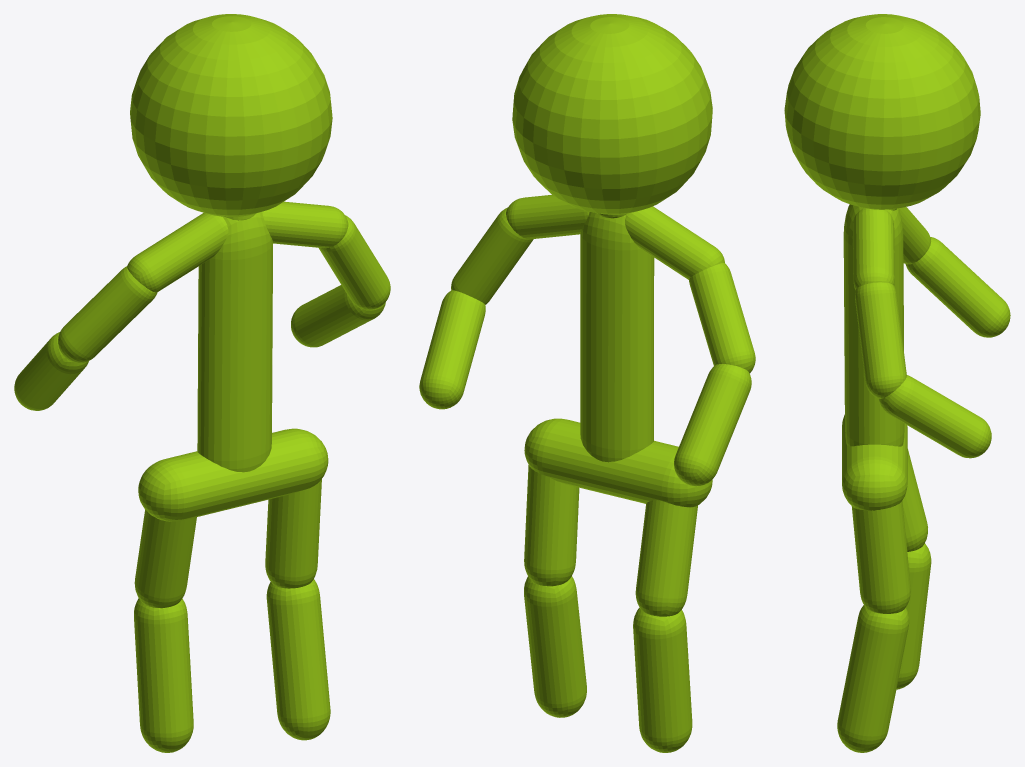
File: Stickman_000017.obj
3 renders of one model, left to right at view 1: azimuth 30°, elevation 25°; view 2: azimuth 150°, elevation 25°; view 3: azimuth 270°, elevation 25°, orthographic. The views are drawn at different scales.
Parts seen in each view (by area): view 1: Head_Sphere.001, Body_Roundcube.002, Hip_Roundcube.005, LowerLegLeft_Roundcube.013, LowerLegRight_Roundcube.011, UpperLegLeft_Roundcube.012, UpperLegRight_Roundcube.010, UpperArmRight_Roundcube.015, ShoulderRight_Roundcube.014, UpperArmLeft_Roundcube.018, ShoulderLeft_Roundcube.017, LowerArmLeft_Roundcube.019 (+1 smaller); view 2: Head_Sphere.001, Body_Roundcube.002, Hip_Roundcube.005, LowerLegRight_Roundcube.011, LowerLegLeft_Roundcube.013, UpperLegRight_Roundcube.010, LowerArmRight_Roundcube.016, UpperLegLeft_Roundcube.012, LowerArmLeft_Roundcube.019, UpperArmRight_Roundcube.015, ShoulderRight_Roundcube.014, UpperArmLeft_Roundcube.018 (+1 smaller); view 3: Head_Sphere.001, LowerLegLeft_Roundcube.013, Body_Roundcube.002, UpperLegLeft_Roundcube.012, LowerArmRight_Roundcube.016, LowerArmLeft_Roundcube.019, UpperArmLeft_Roundcube.018, Hip_Roundcube.005, ShoulderLeft_Roundcube.017, LowerLegRight_Roundcube.011, UpperLegRight_Roundcube.010, UpperArmRight_Roundcube.015.
Boxes of the visible parts, x1,y1,x2,y2 form: Head_Sphere.001: (130, 14, 332, 216); Body_Roundcube.002: (197, 212, 272, 472); Hip_Roundcube.005: (138, 428, 328, 521); LowerLegLeft_Roundcube.013: (266, 579, 330, 740); LowerLegRight_Roundcube.011: (134, 598, 193, 752); UpperLegLeft_Roundcube.012: (265, 479, 321, 588); UpperLegRight_Roundcube.010: (134, 510, 196, 608); UpperArmRight_Roundcube.015: (58, 266, 157, 362); ShoulderRight_Roundcube.014: (127, 213, 228, 292); UpperArmLeft_Roundcube.018: (318, 215, 390, 309); ShoulderLeft_Roundcube.017: (262, 201, 348, 248); LowerArmLeft_Roundcube.019: (291, 285, 385, 347); Head_Sphere.001: (512, 14, 712, 214); Body_Roundcube.002: (580, 212, 654, 462); Hip_Roundcube.005: (524, 418, 712, 507); LowerLegRight_Roundcube.011: (633, 608, 692, 752); LowerLegLeft_Roundcube.013: (524, 576, 586, 717); UpperLegRight_Roundcube.010: (635, 500, 697, 616); LowerArmRight_Roundcube.016: (674, 364, 751, 486); UpperLegLeft_Roundcube.012: (524, 465, 579, 586); LowerArmLeft_Roundcube.019: (419, 290, 485, 409); UpperArmRight_Roundcube.015: (689, 263, 755, 373); ShoulderRight_Roundcube.014: (625, 206, 724, 279); UpperArmLeft_Roundcube.018: (451, 207, 533, 304); Head_Sphere.001: (784, 14, 980, 209); LowerLegLeft_Roundcube.013: (837, 605, 909, 752); Body_Roundcube.002: (843, 204, 904, 446); UpperLegLeft_Roundcube.012: (851, 501, 910, 613); LowerArmRight_Roundcube.016: (905, 237, 1010, 337); LowerArmLeft_Roundcube.019: (879, 375, 991, 458); UpperArmLeft_Roundcube.018: (855, 282, 906, 398); Hip_Roundcube.005: (842, 414, 907, 510); ShoulderLeft_Roundcube.017: (853, 208, 894, 290); LowerLegRight_Roundcube.011: (896, 543, 931, 689); UpperLegRight_Roundcube.010: (902, 449, 927, 551); UpperArmRight_Roundcube.015: (899, 207, 930, 264).
Size of the model in its own units: 4.92 by 10.57 by 3.1.
